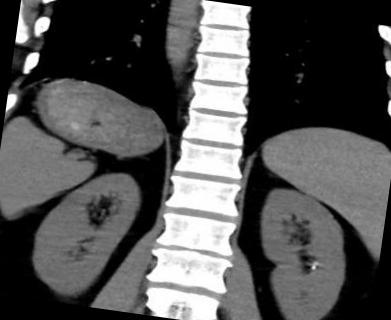Tas_Var: (310, 258, 320, 266), (310, 264, 316, 271)
